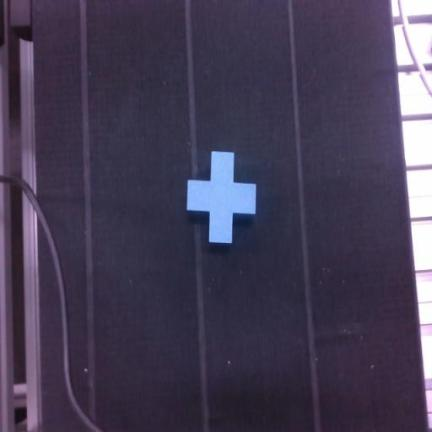cross: (187, 152, 255, 243)
